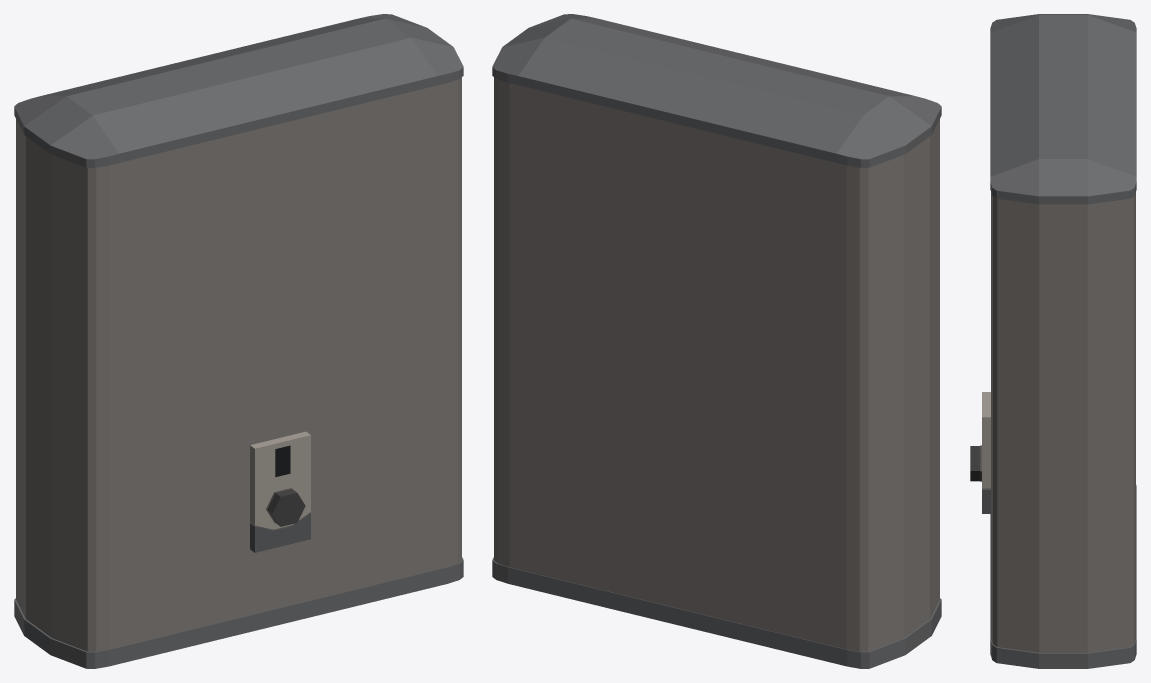
File: waterheaterlarge_01_A.gltf
3 views of the same model, side by side, from view 1: azimuth 30°, elevation 25°; view 2: azimuth 150°, elevation 25°; view 3: azimuth 270°, elevation 25° (orthographic). The views are drawn at different scales.
Visible parts, largest first — view 1: waterheaterlarge_01_A, switchforwaterheaterlarge_01_A; view 2: waterheaterlarge_01_A; view 3: waterheaterlarge_01_A, switchforwaterheaterlarge_01_A.
Boxes of the visible parts, x1,y1,x2,y2 form: waterheaterlarge_01_A: [14, 14, 463, 668]; switchforwaterheaterlarge_01_A: [266, 488, 305, 526]; waterheaterlarge_01_A: [492, 14, 941, 668]; waterheaterlarge_01_A: [982, 14, 1136, 668]; switchforwaterheaterlarge_01_A: [970, 445, 981, 481].
Bounding box in the file's own units: 0.946 × 1.2 × 0.3638.
Materials: 1 (1 with a texture image).
